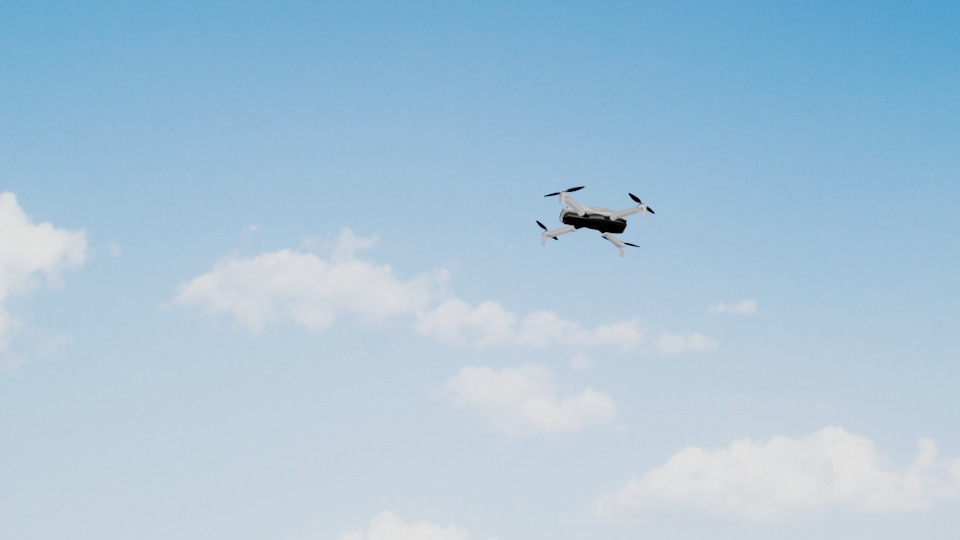drone: (538, 182, 665, 256)
